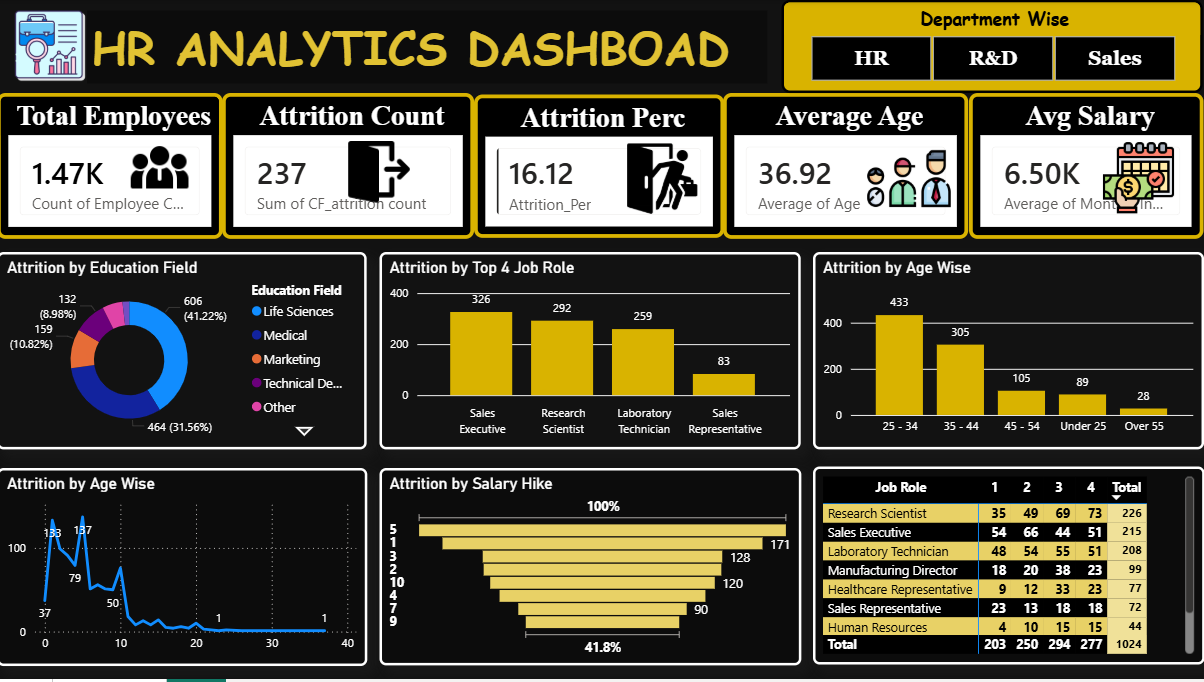

Layout of this report page (visuals, bound fields, positions):
{"tool":"powerbi","page":{"name":"Page 1","canvas":[1280,720],"ordinal":0},"visuals":[{"type":"cardVisual","title":"Total Employees","fields":{"Data":["CountNonNull(Data.Employee Count)"]},"box":[0,98,239.3,154.5],"z":0},{"type":"cardVisual","title":"Average Age","fields":{"Data":["Avg(Data.Age)"]},"box":[770.6,98,260,154.5],"z":1000},{"type":"cardVisual","title":"Attrition Count","fields":{"Data":["Sum(Data.CF_attrition count)"]},"box":[239.3,98,267.6,154.5],"z":2000},{"type":"cardVisual","title":"Attrition Perc","fields":{"Data":["Data.Attrition_Per"]},"box":[506,100.8,265.3,152.2],"z":3000},{"type":"cardVisual","title":"Avg Salary","fields":{"Data":["Avg(Data.Monthly Income)"]},"box":[1030.7,98,248.7,154.5],"z":4000},{"type":"donutChart","title":"Attrition by Education Field","fields":{"Category":["Data.Education Field"],"Y":["CountNonNull(Data.Attrition)"]},"box":[0,267.6,391.9,209.1],"z":5000},{"type":"columnChart","title":"Attrition by Top 4 Job Role","fields":{"Y":["CountNonNull(Data.Attrition)"],"Category":["Data.Job Role"]},"box":[405.1,267.6,446.6,209.1],"z":6000},{"type":"columnChart","title":"Attrition by Age Wise","fields":{"Y":["CountNonNull(Data.Attrition)"],"Category":["Data.CF_age band"]},"box":[864.9,267.6,414.5,209.1],"z":7000},{"type":"lineChart","title":"Attrition by Age Wise","fields":{"Y":["CountNonNull(Data.CF_age band)"],"Category":["Data.Years At Company"]},"box":[0,495.7,392.8,209.8],"z":8000},{"type":"textbox","box":[96.1,11.3,721.7,77.3],"z":9000},{"type":"funnel","title":"Attrition by Salary Hike","fields":{"Category":["Data.Years At Company"],"Y":["CountNonNull(Data.CF_age band)"]},"box":[405,495.6,447.3,209.5],"z":10000},{"type":"slicer","title":"Department Wise","fields":{"Values":["Data.Department"]},"box":[831.9,0,447,98.6],"z":11000},{"type":"image","box":[17.5,6.4,77.9,84.3],"z":12000},{"type":"image","box":[130.4,144.7,84.3,65.2],"z":13000},{"type":"image","box":[668.1,144.7,74.8,89.1],"z":14000},{"type":"image","box":[919.4,144.7,95.4,89.1],"z":15000},{"type":"image","box":[1167.5,149.5,85.9,77.9],"z":16000},{"type":"image","box":[361.1,149.5,87.5,65.2],"z":17000},{"type":"pivotTable","title":"Attrition by Age Wise","fields":{"Values":["CountNonNull(Data.CF_age band)"],"Rows":["Data.Job Role"],"Columns":["Data.Job Satisfaction"]},"box":[865.3,494.7,415.1,210],"z":18000}]}

Visuals, with their boxes in screenshot pixels (x1, y1, x2, y2), scaled from the page's 1280x720 canvas onto the 1204x682 screenshot:
"Total Employees" cardVisual: bbox(0, 93, 225, 239)
"Average Age" cardVisual: bbox(725, 93, 969, 239)
"Attrition Count" cardVisual: bbox(225, 93, 477, 239)
"Attrition Perc" cardVisual: bbox(476, 95, 726, 240)
"Avg Salary" cardVisual: bbox(970, 93, 1203, 239)
"Attrition by Education Field" donutChart: bbox(0, 253, 369, 452)
"Attrition by Top 4 Job Role" columnChart: bbox(381, 253, 801, 452)
"Attrition by Age Wise" columnChart: bbox(814, 253, 1203, 452)
"Attrition by Age Wise" lineChart: bbox(0, 470, 369, 668)
textbox: bbox(90, 11, 769, 84)
"Attrition by Salary Hike" funnel: bbox(381, 469, 802, 668)
"Department Wise" slicer: bbox(783, 0, 1203, 93)
image: bbox(16, 6, 90, 86)
image: bbox(123, 137, 202, 199)
image: bbox(628, 137, 699, 221)
image: bbox(865, 137, 955, 221)
image: bbox(1098, 142, 1179, 215)
image: bbox(340, 142, 422, 203)
"Attrition by Age Wise" pivotTable: bbox(814, 469, 1203, 668)
